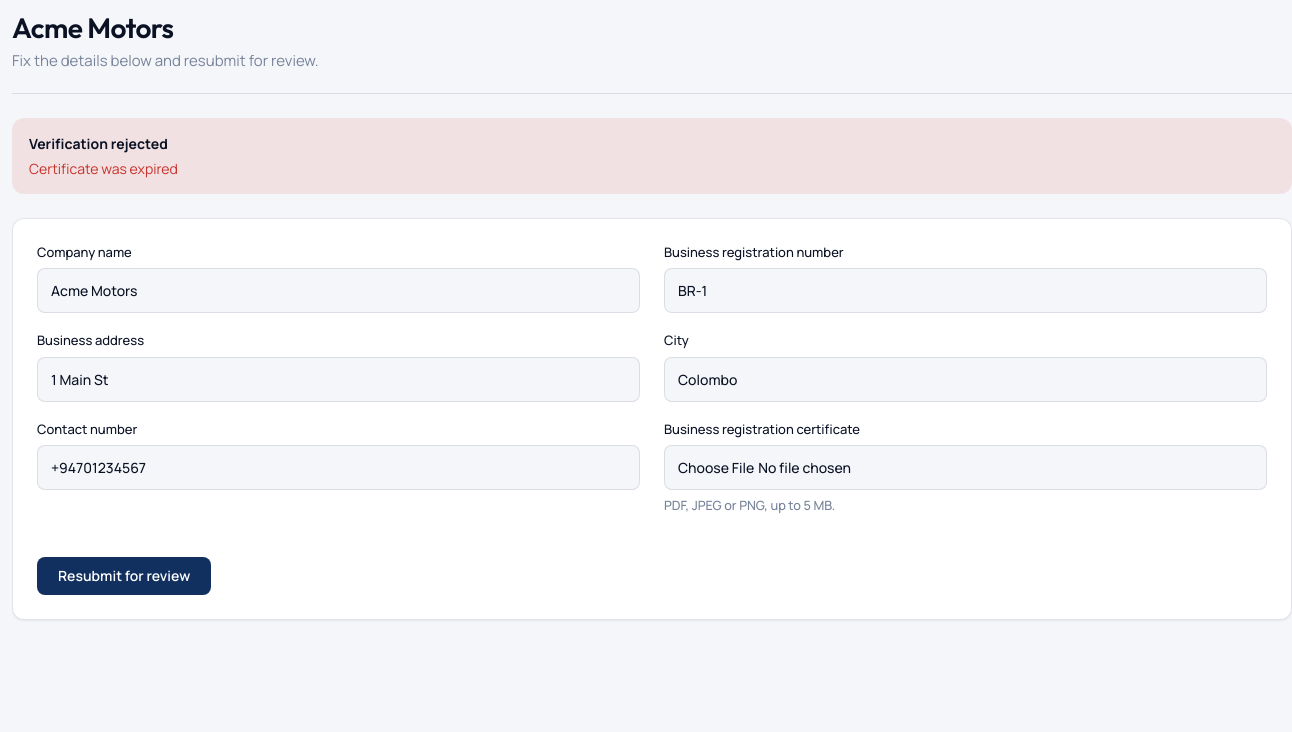
DealerVerificationGate › shows the business registration field and blocks submit without a document for a business dealer
Expected: the field labelled "Business registration number" is shown, [664, 268, 1267, 313]
Click the button "Resubmit for review" at (124, 576), box [37, 557, 211, 595]
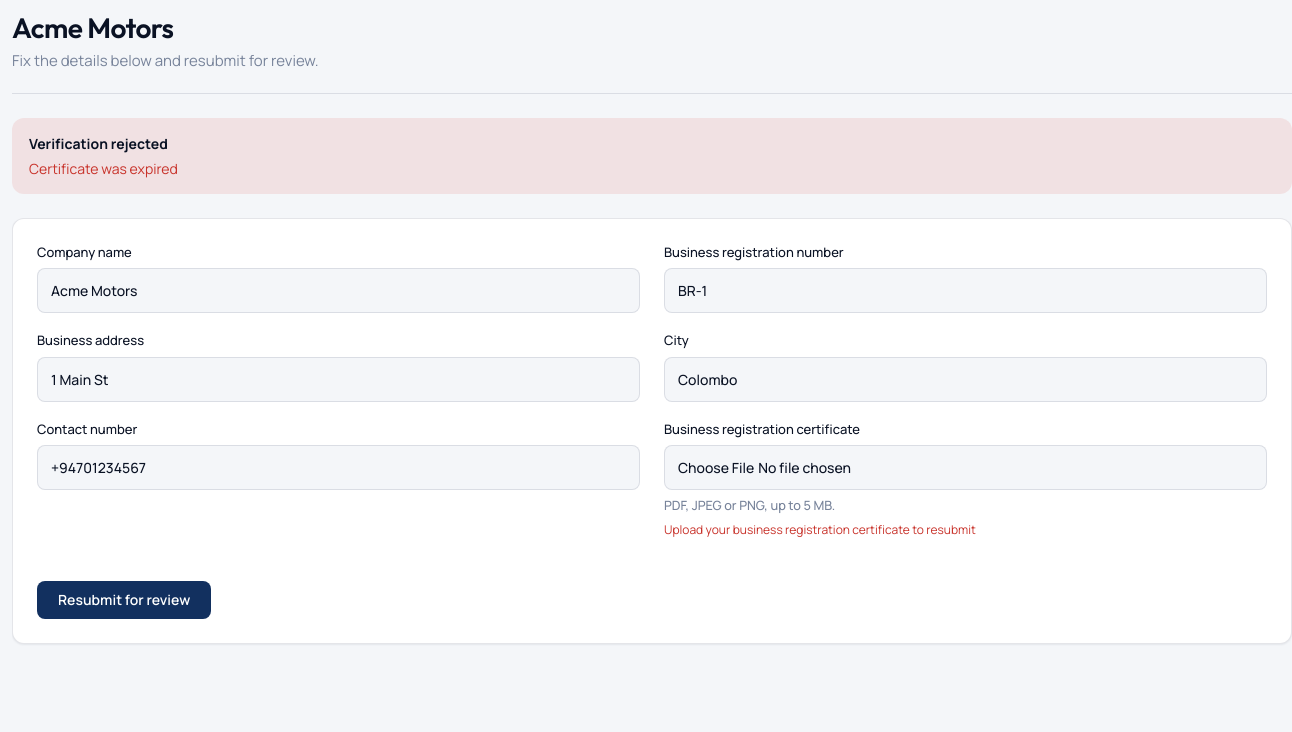
Expected: the text "Upload your business registration certificate to resubmit" is shown, [664, 521, 976, 538]
